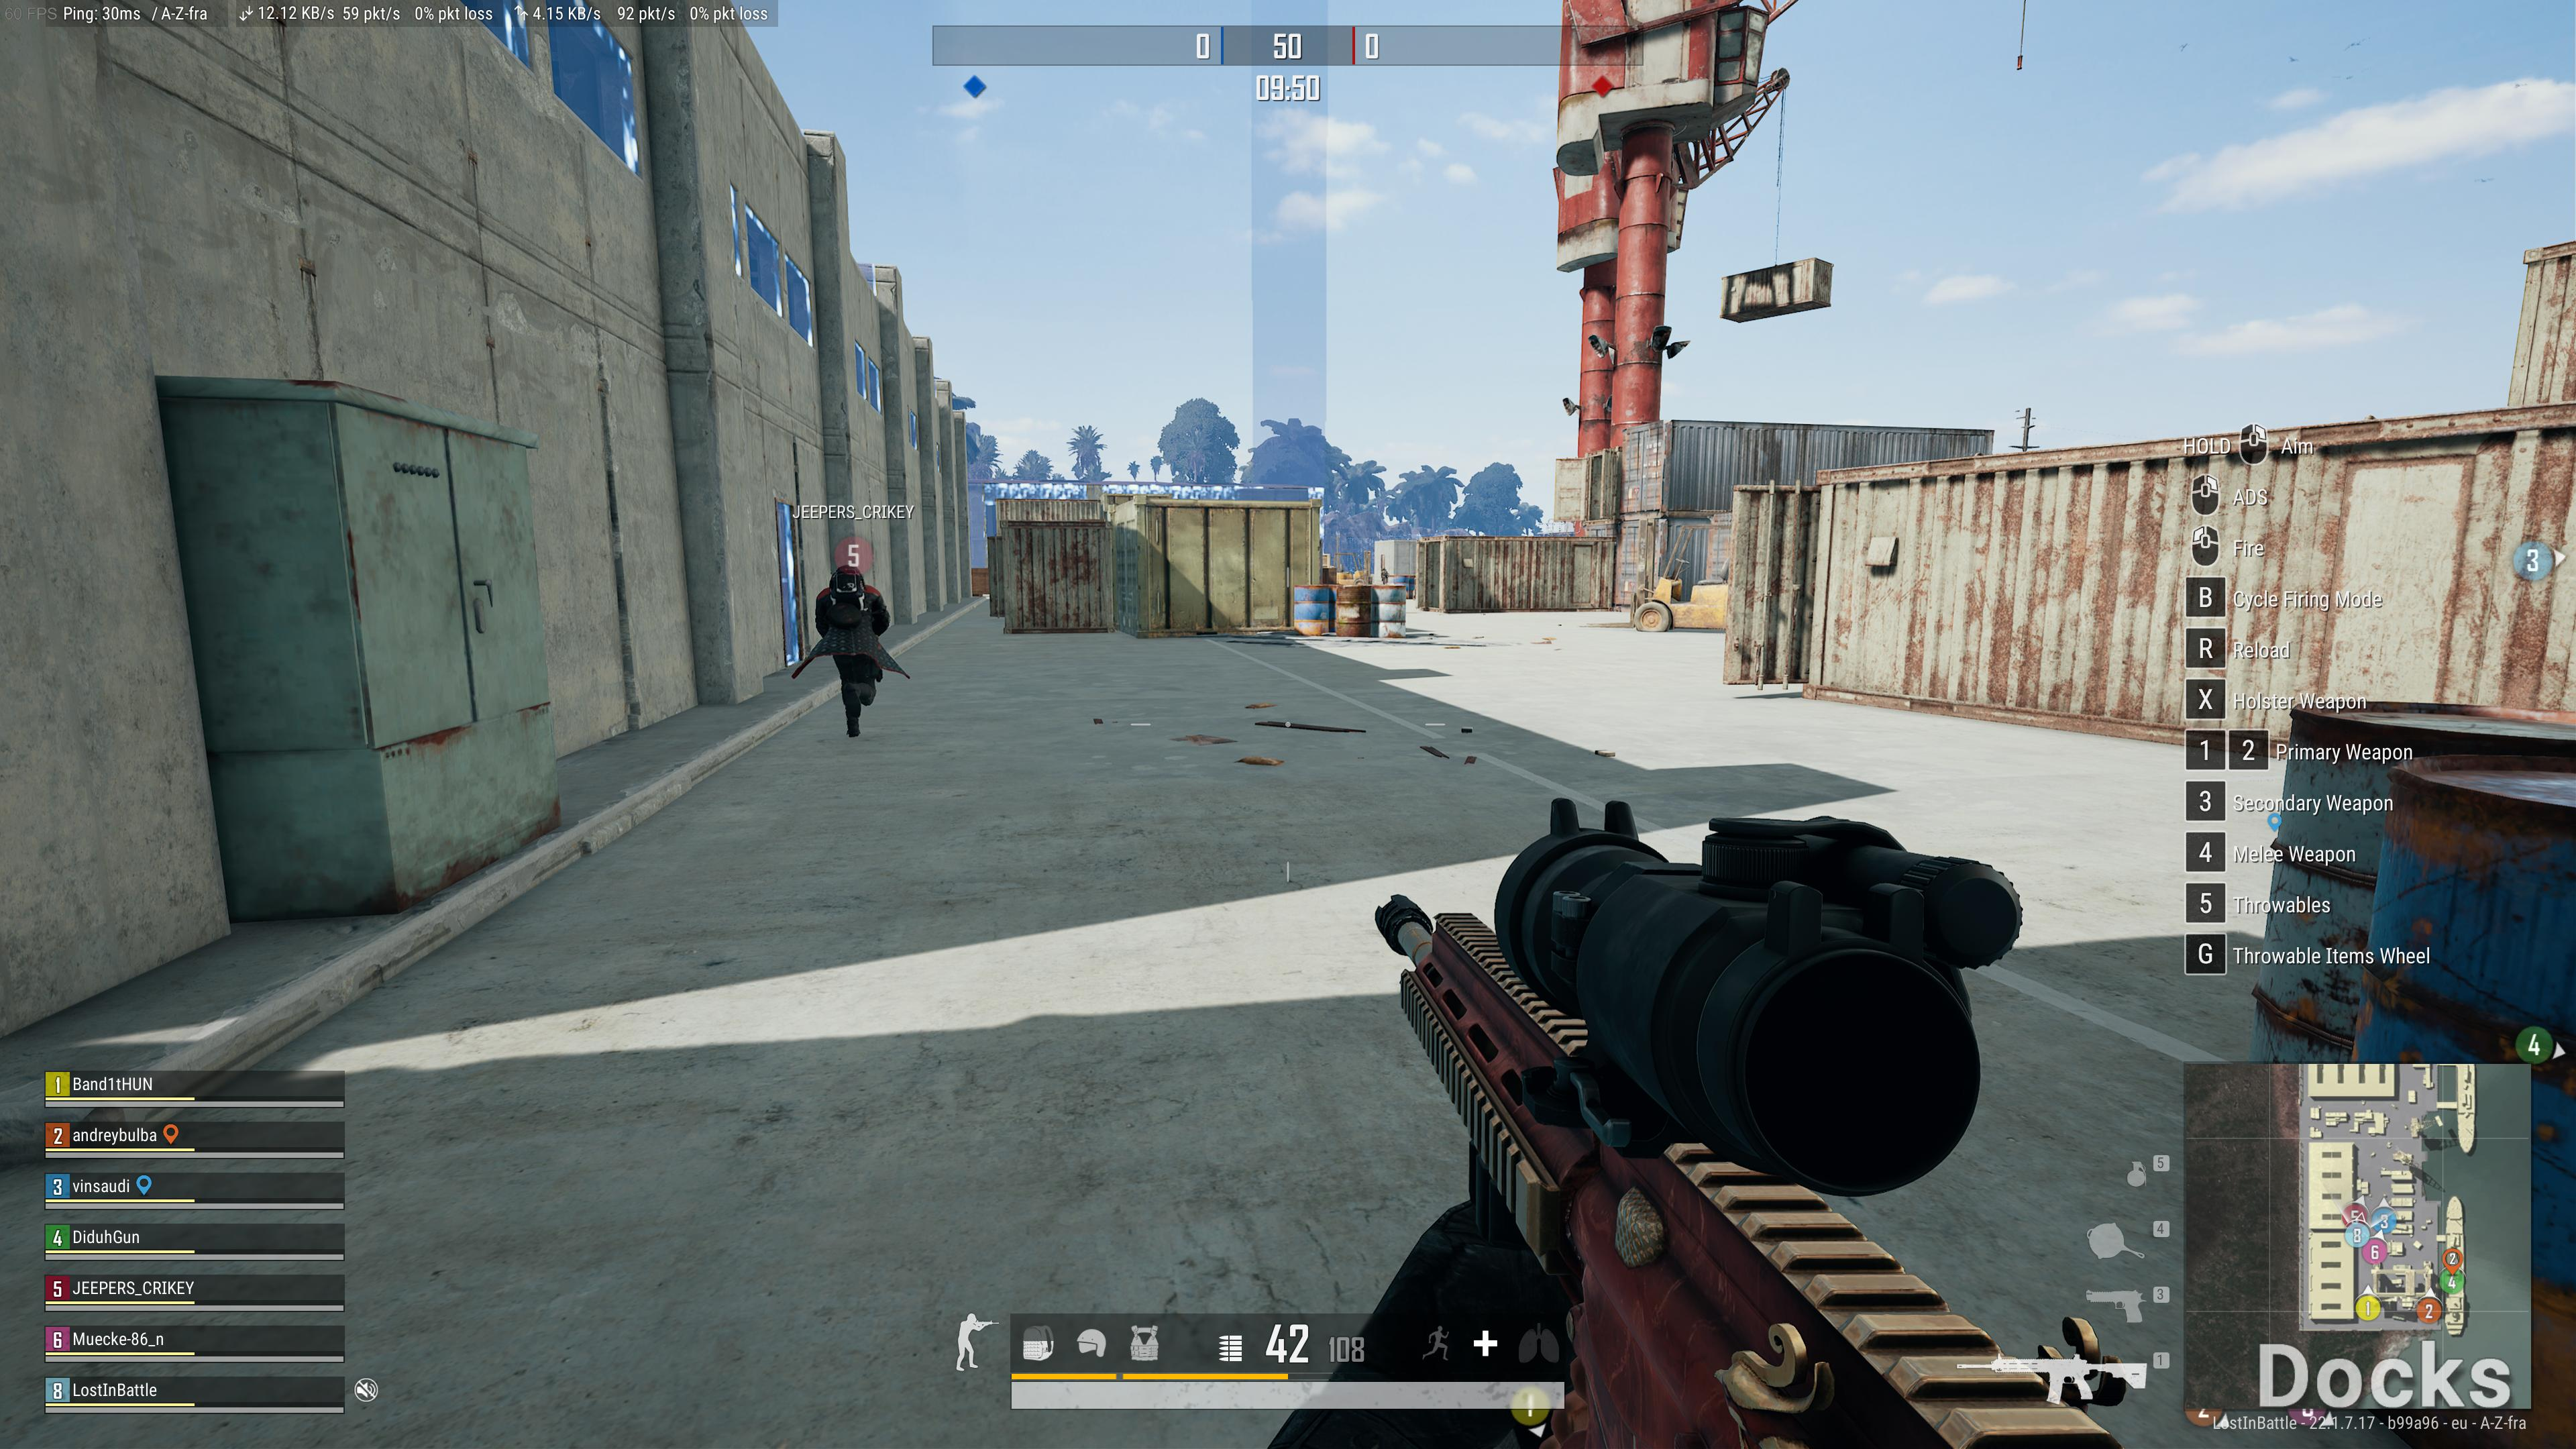enemy: (1380, 566, 1387, 584)
friendly: (809, 547, 893, 738)
